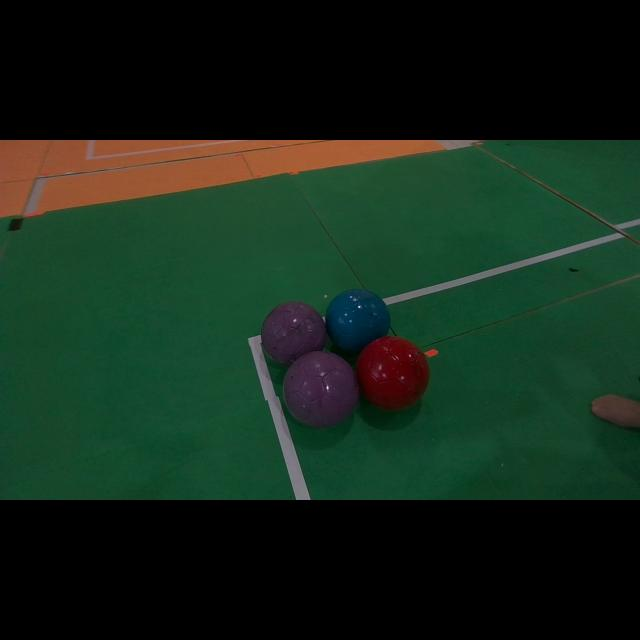B: (325, 289, 391, 352)
P: (284, 351, 359, 428), (261, 301, 326, 366)
R: (356, 336, 430, 410)
